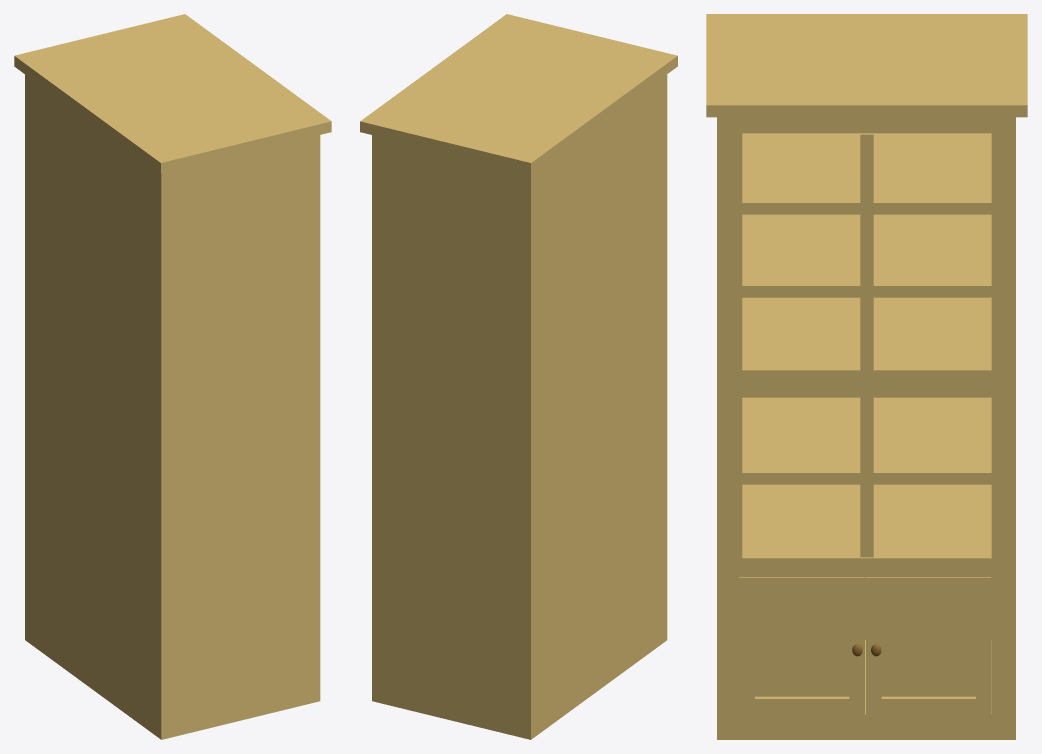
The model's file is Kutuphane2.fbx.
3 renders of one model, left to right at view 1: azimuth 30°, elevation 25°; view 2: azimuth 150°, elevation 25°; view 3: azimuth 270°, elevation 25°, orthographic. The views are drawn at different scales.
Parts seen in each view (by area): view 1: Cube; view 2: Cube; view 3: Cube.
Boxes of the visible parts, x1=… form: Cube: x1=14, y1=14, x2=331, y2=739; Cube: x1=360, y1=14, x2=677, y2=739; Cube: x1=706, y1=14, x2=1027, y2=739.
Size of the model in its own units: 217 by 700 by 320.
